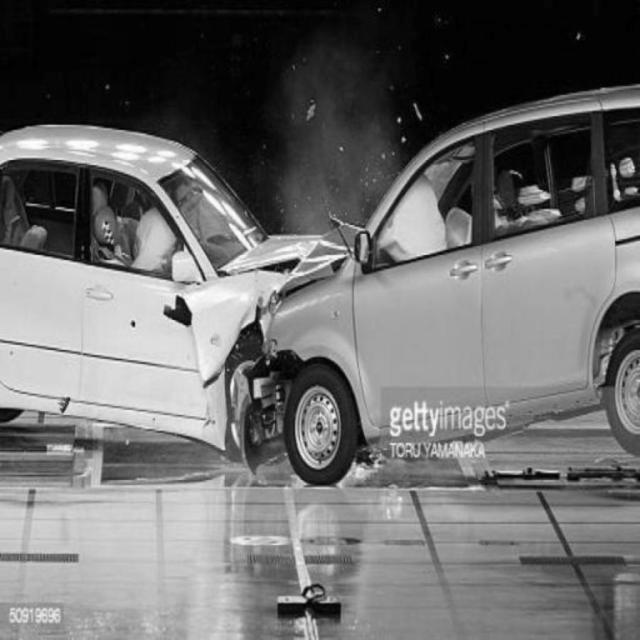accident: (0, 86, 640, 477)
